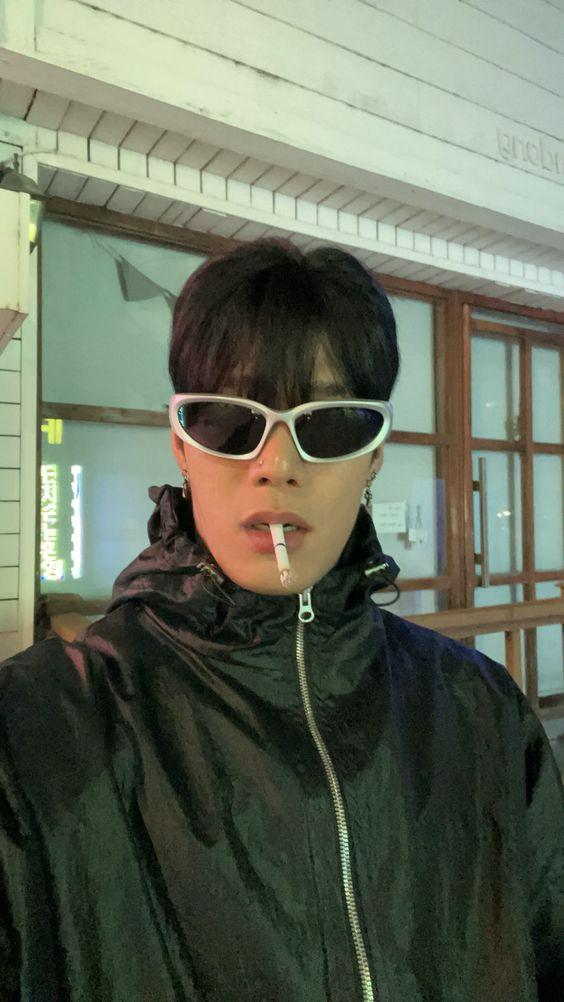cigarette: (270, 523, 292, 589)
